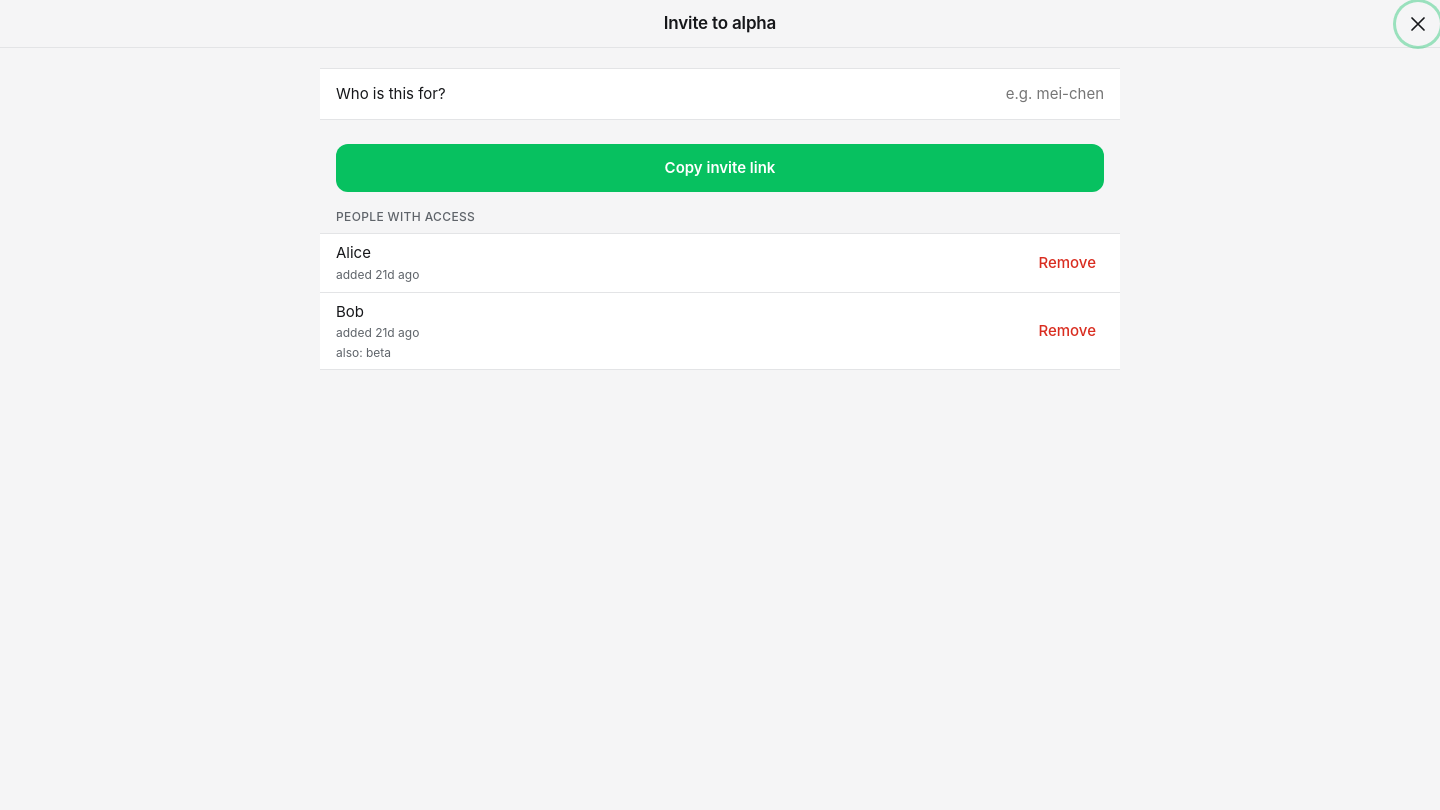
Test: cancelling the confirm leaves the invite alone
Click the button "Remove" in the row of "Alice": (1067, 263) [1030,248,1104,278]
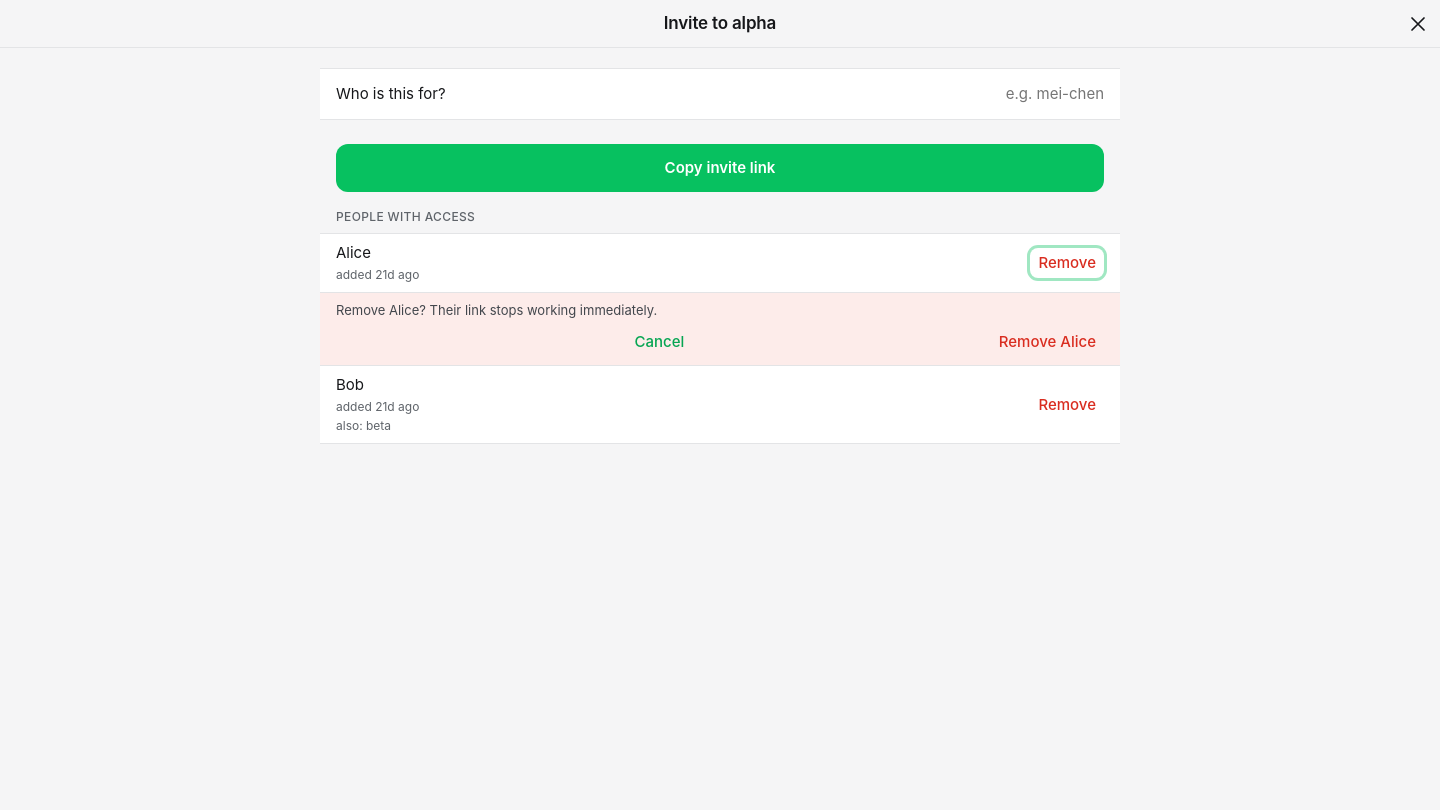
Click the button "Cancel": (659, 342) [626,327,692,357]
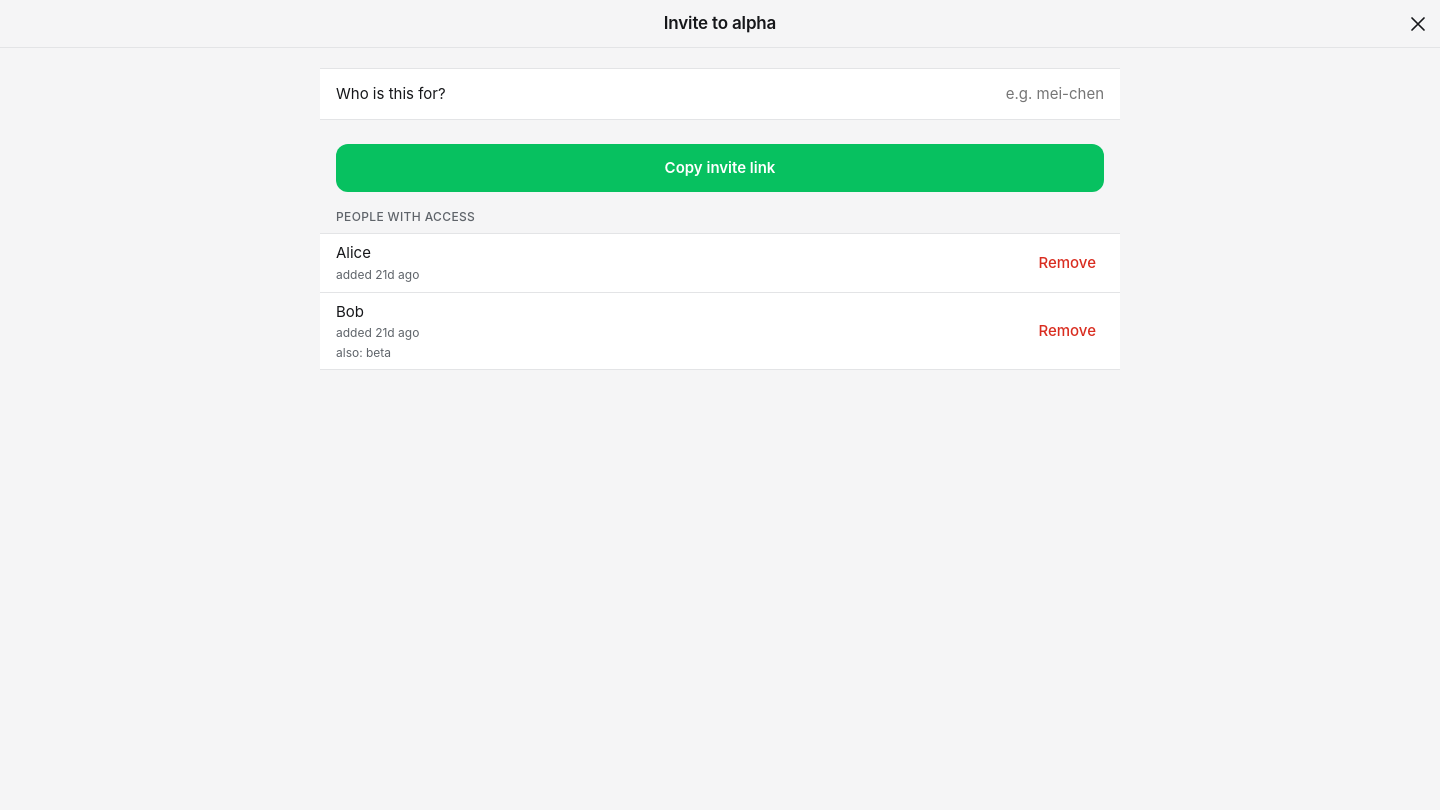
Expected: the text "stops working immediately" is gone
